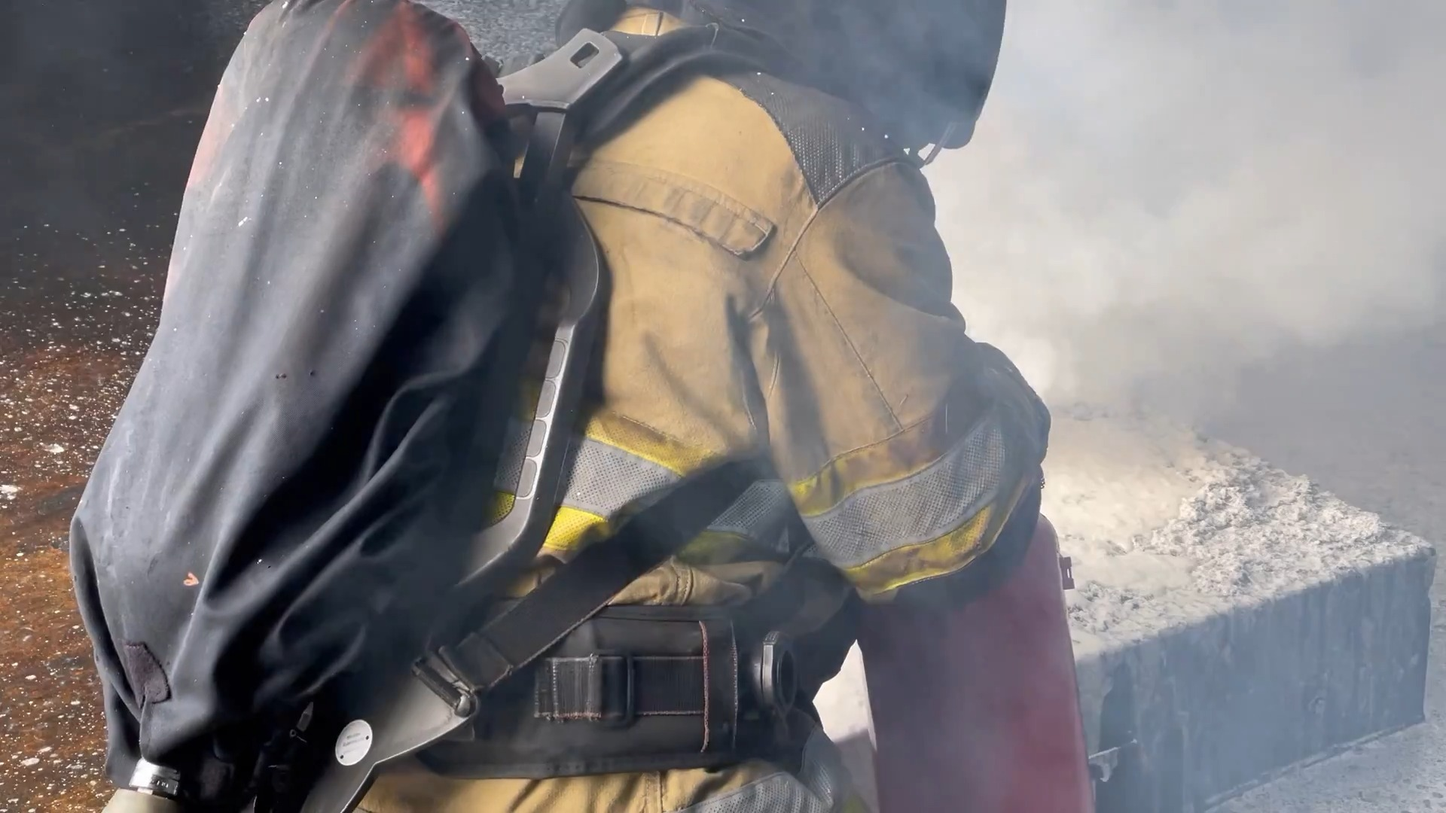smoke: (938, 2, 1446, 470)
